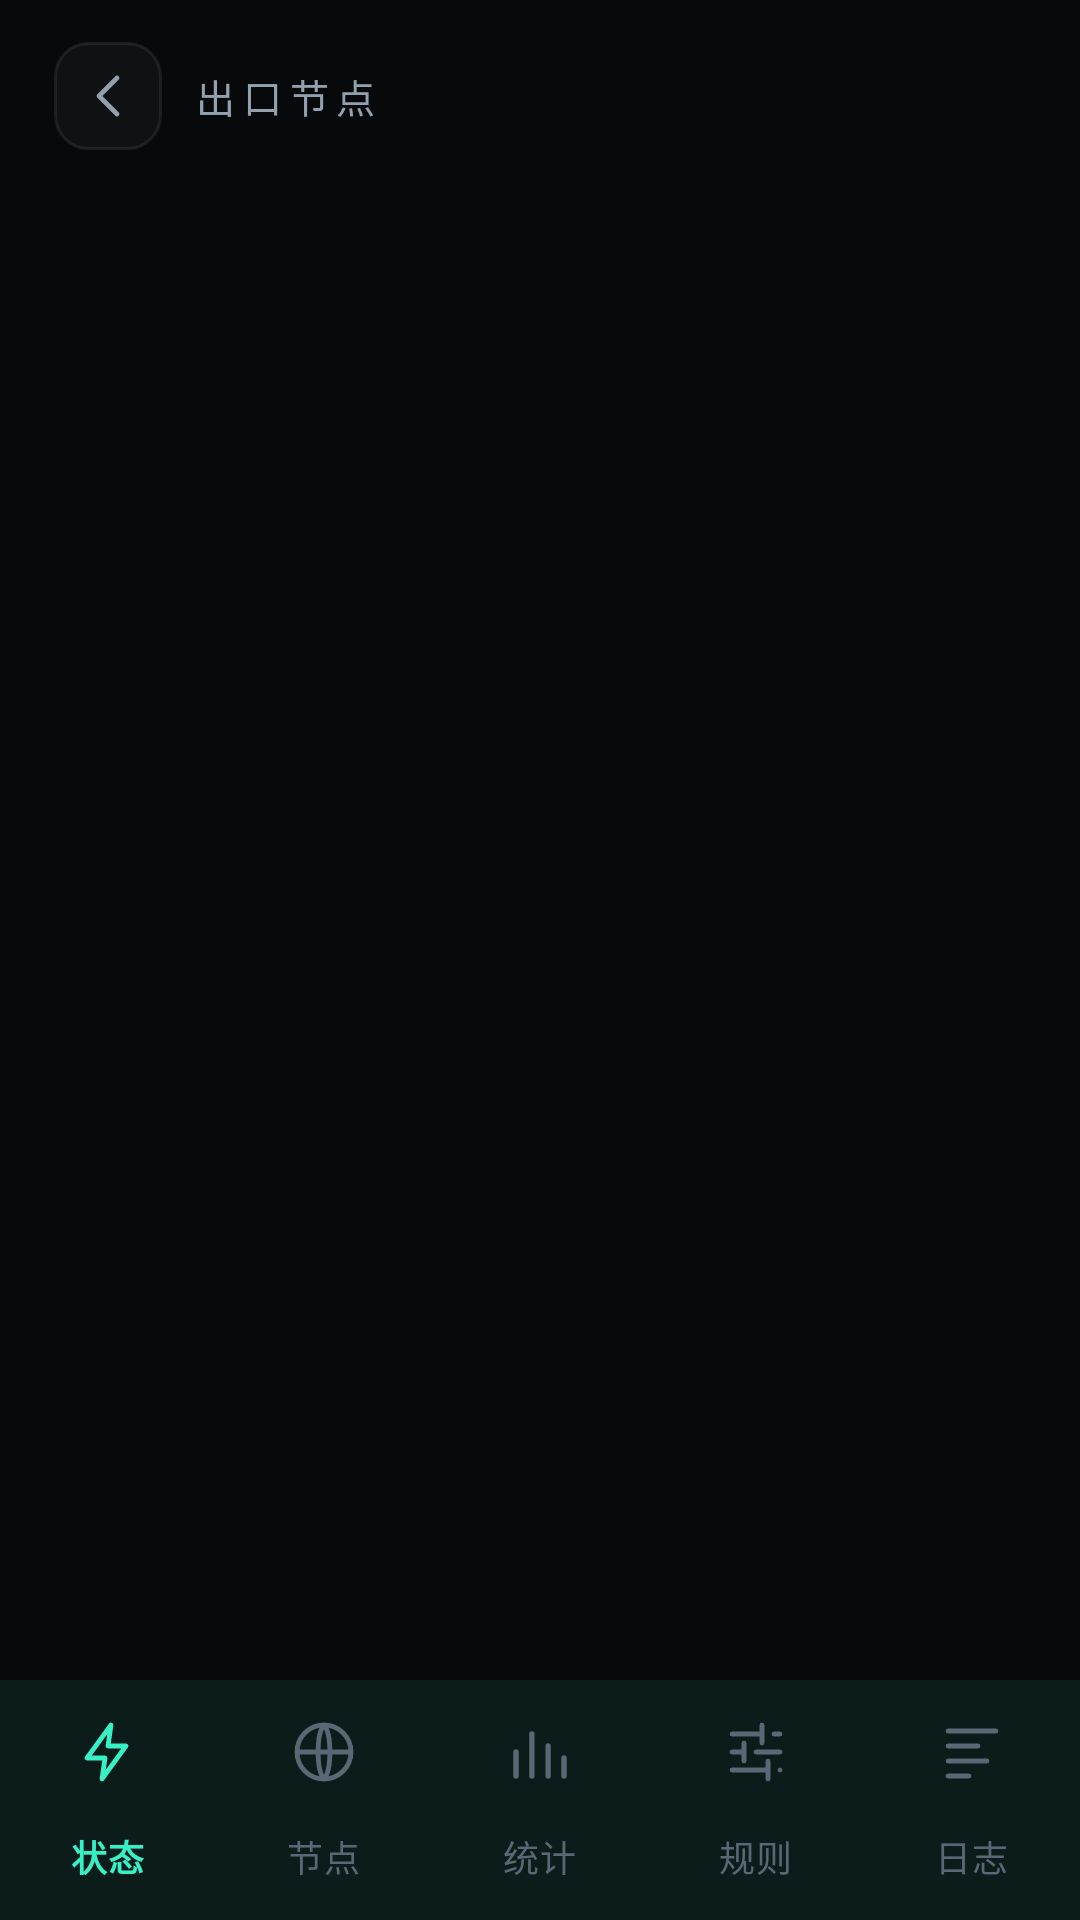

Where icons sit on this 1080x1920 app screen, as detection(x1, y1, x2, y2):
返回: detection(56, 44, 160, 148)
